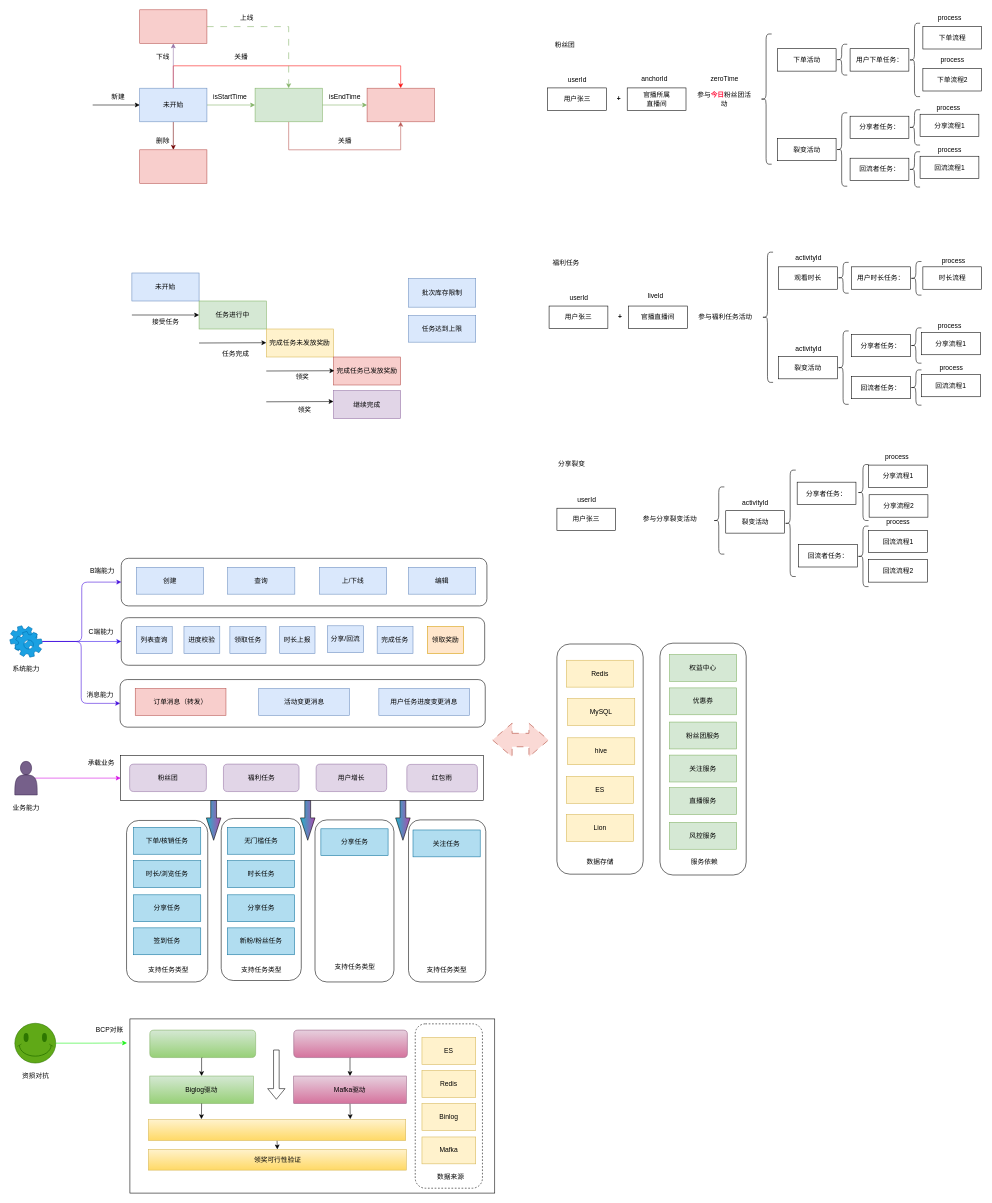
Some shapes in this 992 by 1203 pixel diagram are drawn without their labels. The centre of each missing label's shape, as x and y in pixels:
"任务完成性验证" belongs at [277,1129].
"先发后扣" belongs at [350,1044].
"先扣后发" belongs at [202,1044].
"已下线" belongs at [173,26].
"已删除" belongs at [173,166].
"已结束" belongs at [400,105].
"进行中" belongs at [288,105].
